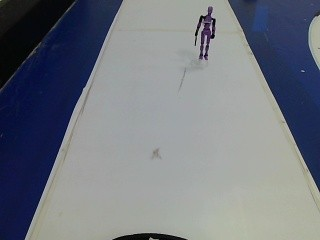pedestrian: (191, 4, 220, 65)
